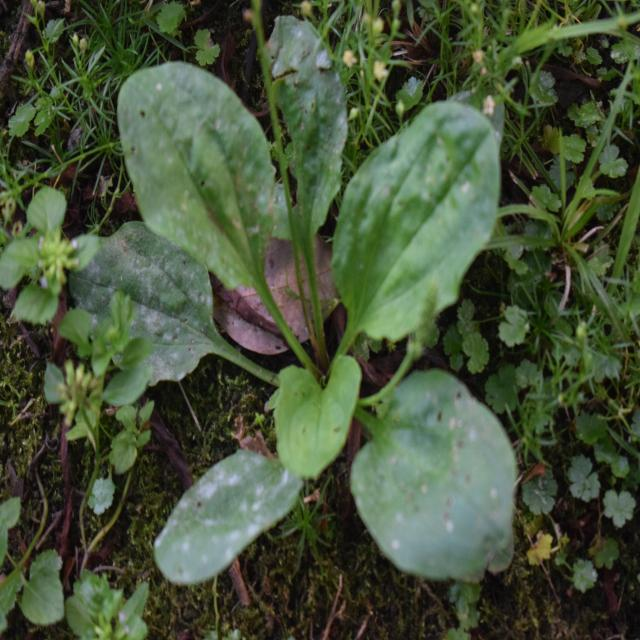plantain: (103, 37, 498, 579)
